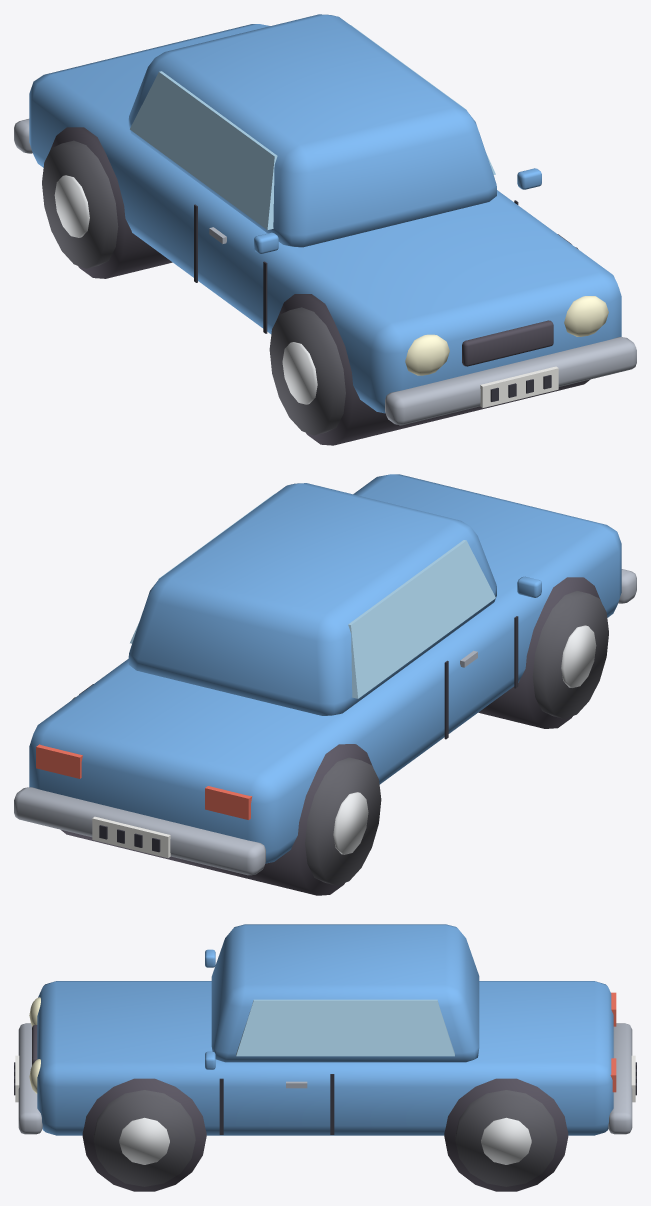
Rendered from Car_Saga.fbx.
3 renders of one model, top to bottom at view 1: azimuth 30°, elevation 25°; view 2: azimuth 150°, elevation 25°; view 3: azimuth 270°, elevation 25°, orthographic. The views are drawn at different scales.
Visible parts, largest first — view 1: Body, Wheel_FL, Wheel_RL; view 2: Body, Wheel_RL, Wheel_FL; view 3: Body, Wheel_FR, Wheel_RR.
Boxes of the visible parts, x1,y1,x2,y2 form: Body: (14,14,636,445); Wheel_FL: (269,307,345,435); Wheel_RL: (42,140,118,268); Body: (14,474,636,895); Wheel_RL: (305,757,381,885); Wheel_FL: (532,591,608,718); Body: (14,924,636,1191); Wheel_FR: (93,1090,195,1186); Wheel_RR: (455,1090,557,1186).
Size of the model in its own units: 1.94 by 1.55 by 4.65.
